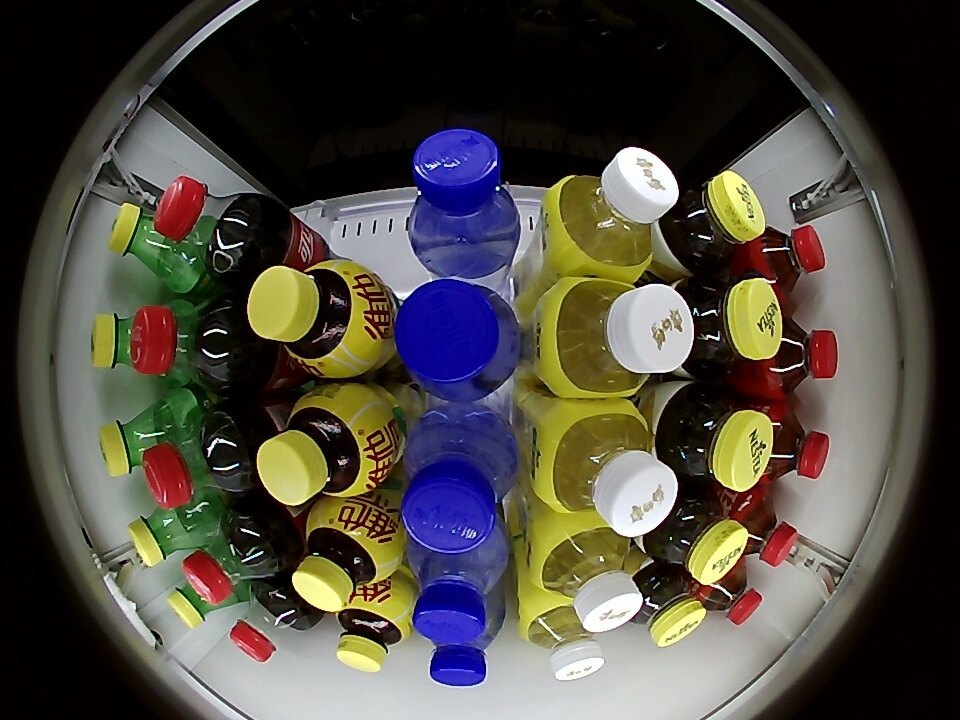aerbeisi: (400, 412, 518, 554), (408, 128, 520, 277), (396, 278, 521, 403), (410, 533, 510, 646), (425, 616, 505, 688)
binghongcha: (759, 317, 839, 397), (746, 224, 826, 294), (729, 491, 798, 567), (764, 401, 830, 480), (700, 564, 764, 629)
bingtangxueli: (534, 400, 677, 536), (537, 277, 694, 399), (545, 147, 679, 277), (530, 520, 643, 632), (520, 599, 604, 681)
chacui: (656, 384, 774, 490), (675, 275, 784, 377), (660, 172, 765, 273), (642, 485, 748, 583), (626, 560, 706, 647)
kele-b: (144, 407, 253, 510), (155, 175, 261, 279), (130, 297, 247, 391), (183, 510, 281, 603), (230, 580, 313, 662)
weitaningmeng-bottle: (256, 384, 388, 506), (248, 260, 384, 378), (292, 499, 398, 613), (336, 591, 412, 674)
xuebi-b: (109, 202, 185, 285), (100, 401, 178, 476), (129, 500, 211, 567), (167, 580, 223, 629), (91, 311, 132, 370)
